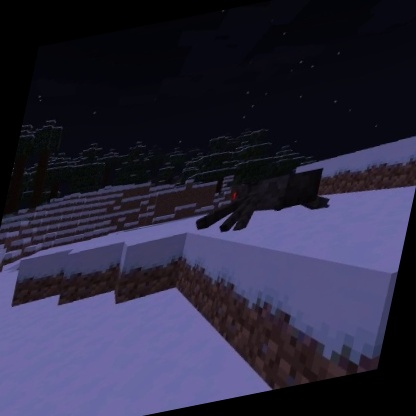spider: (188, 160, 340, 244)
